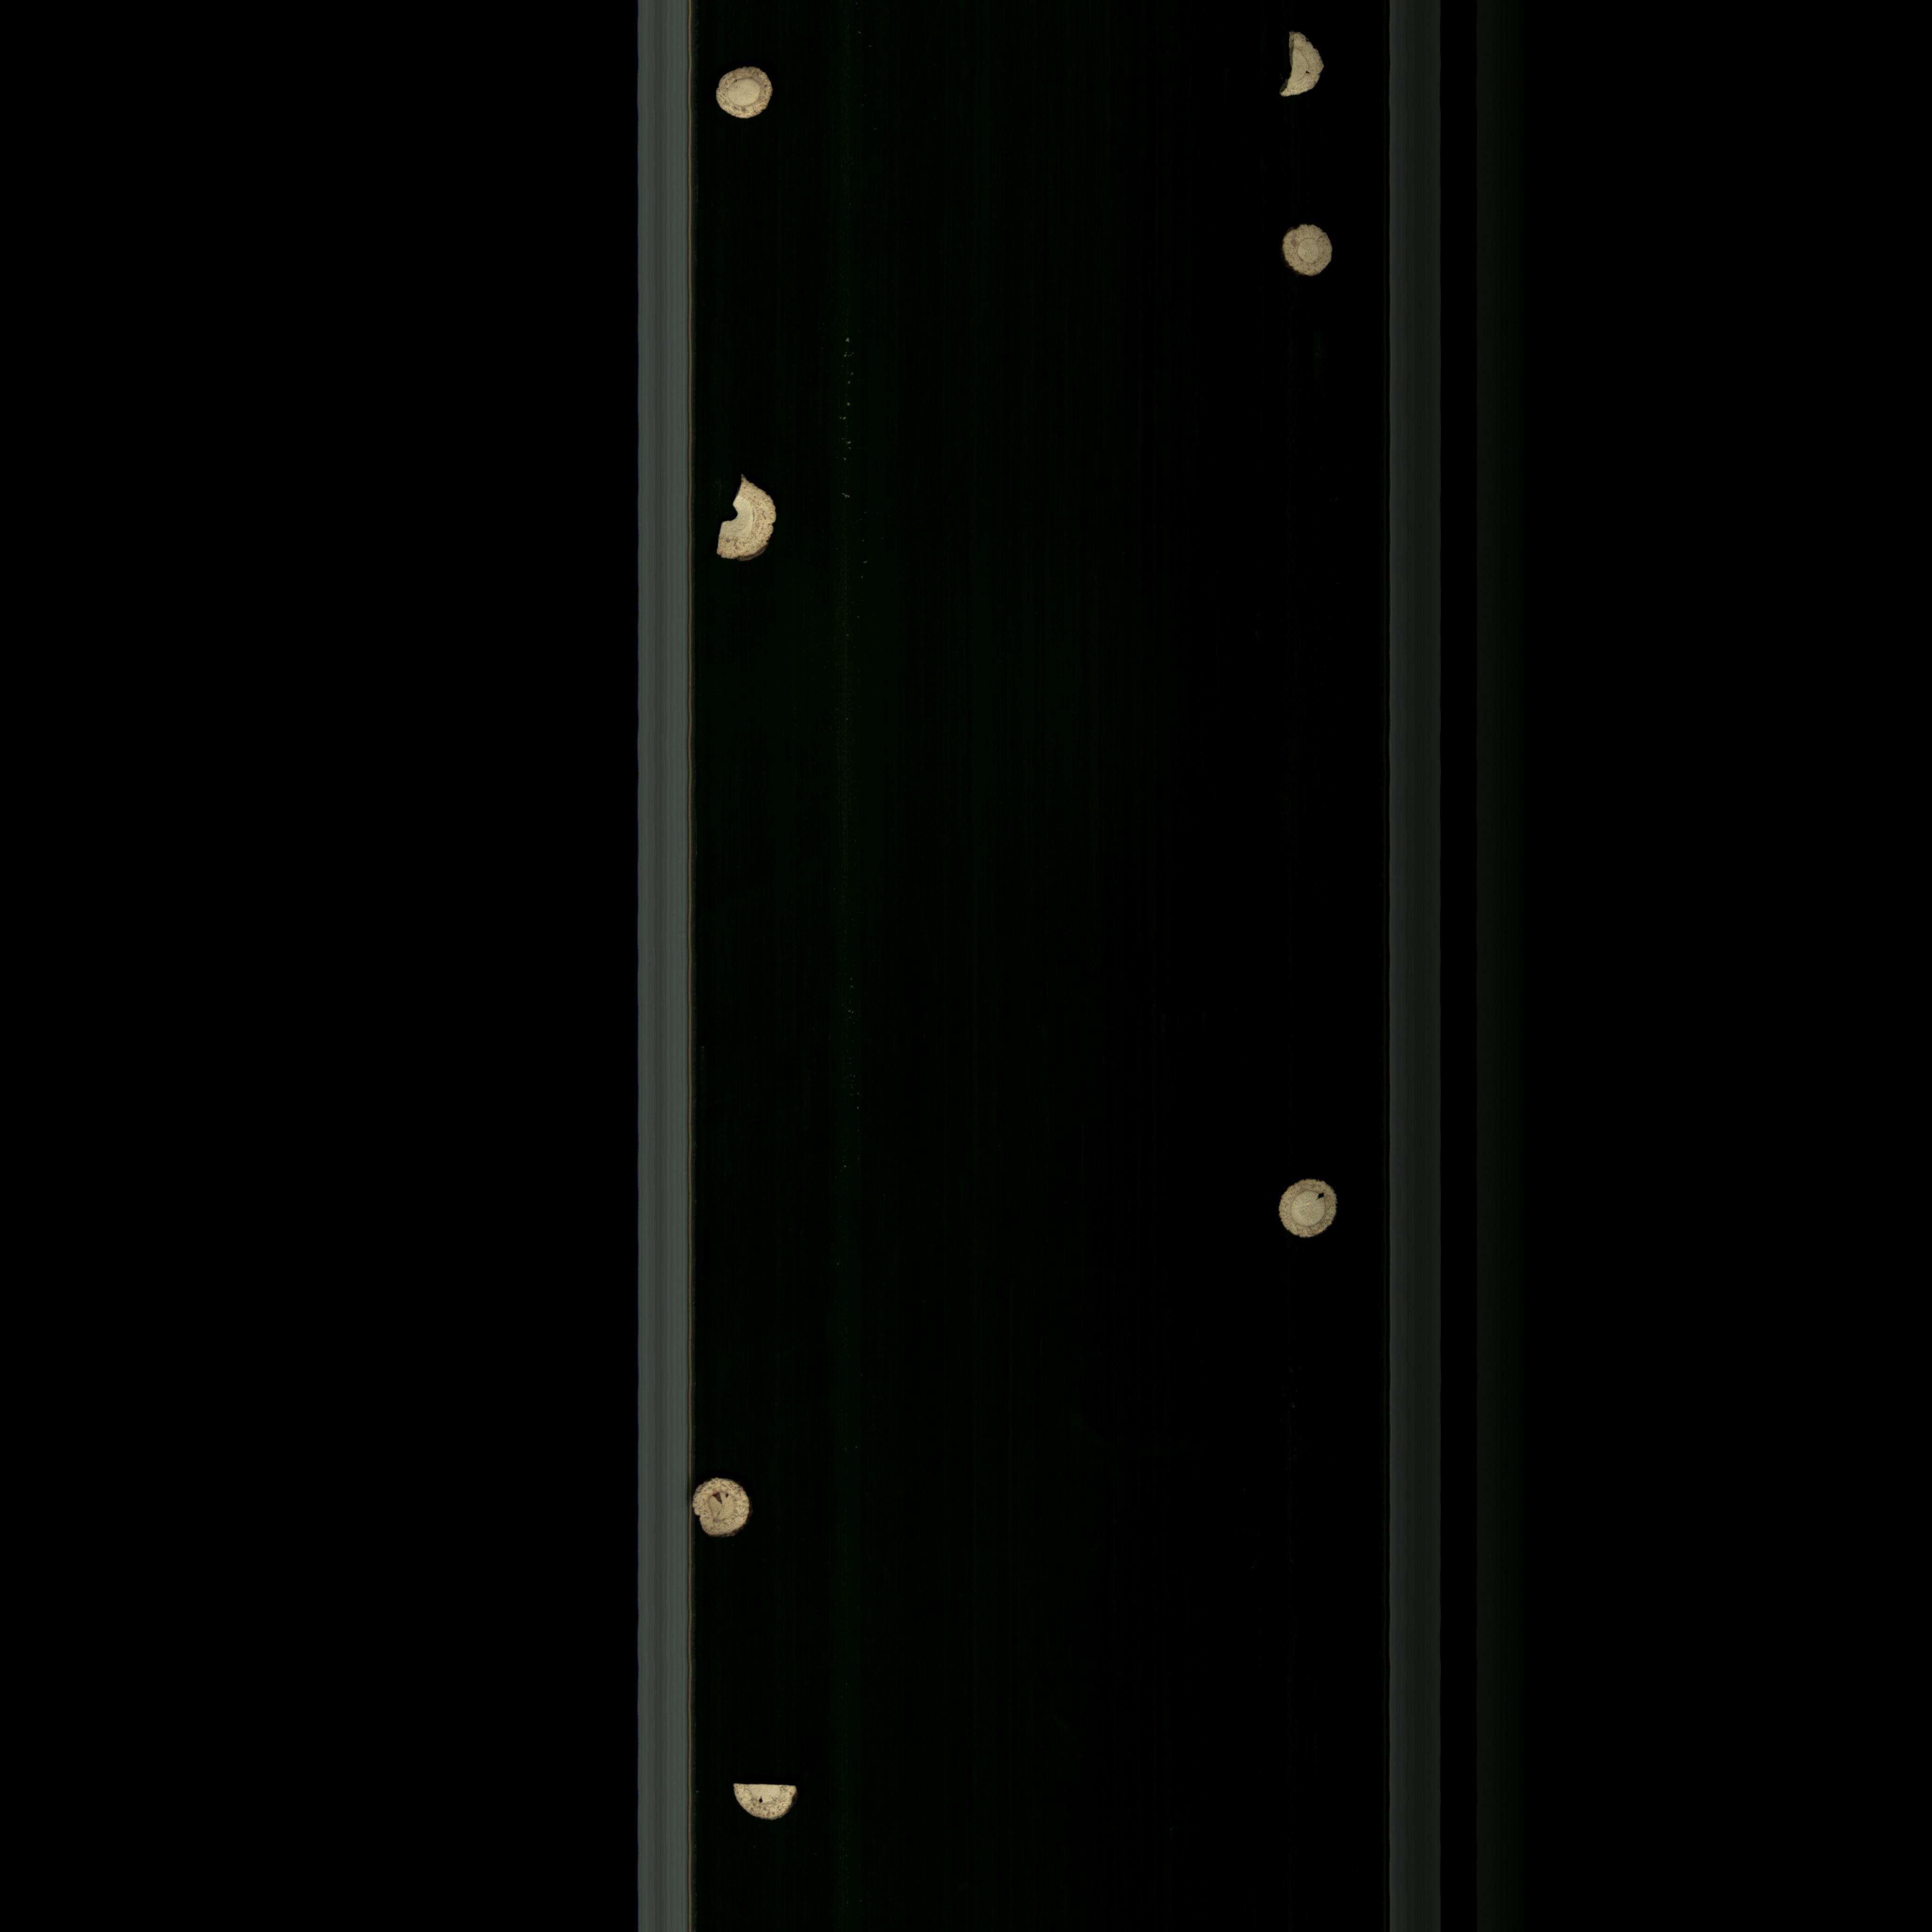debris: (713, 460, 787, 571), (722, 1773, 814, 1835)
dreg: (1276, 21, 1332, 119)
hole: (683, 1472, 764, 1548), (1277, 1171, 1350, 1256)
